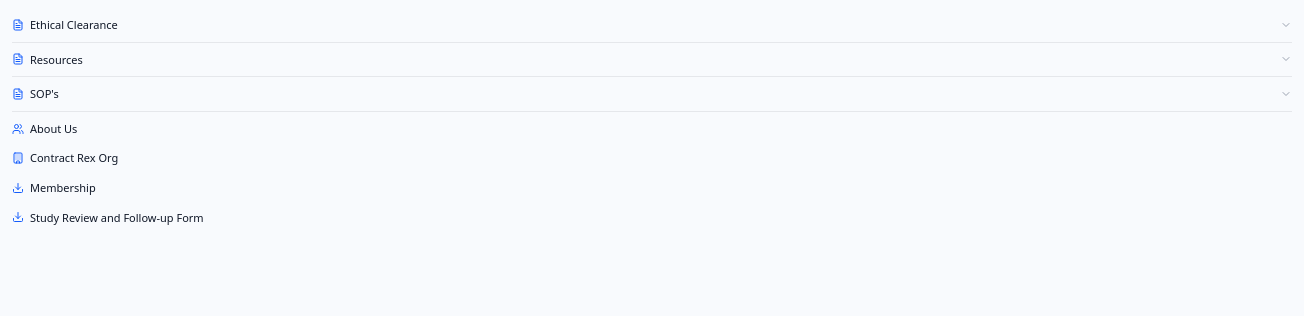
Scenario: PagesDropdown › expands Ethical Clearance section
Step 1. Click the button "Ethical Clearance" → (74, 24), box 12,12 -> 1292,38
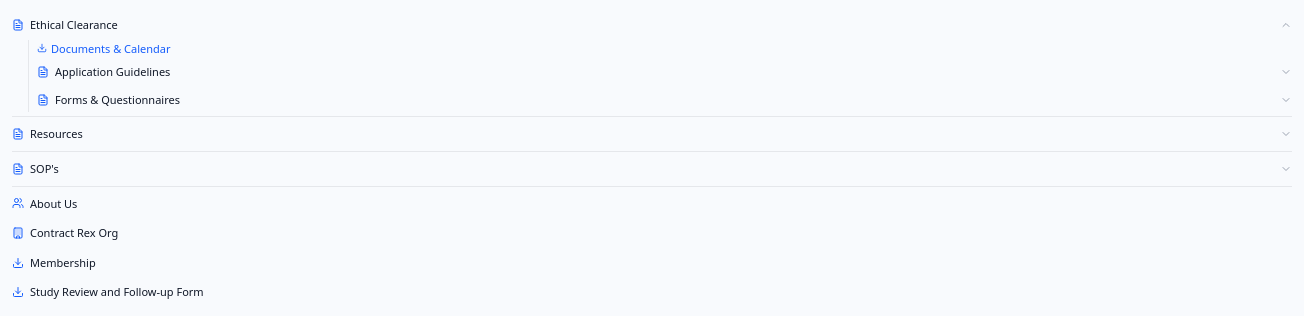
Check: the link "Documents & Calendar" is shown, box 37,41 -> 170,56
